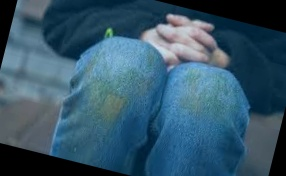earth: (179, 72, 227, 115), (88, 86, 124, 117)
